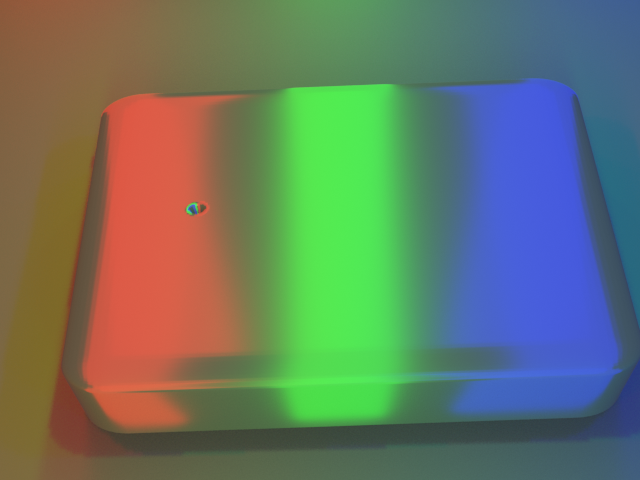dent: (163, 188, 205, 235)
